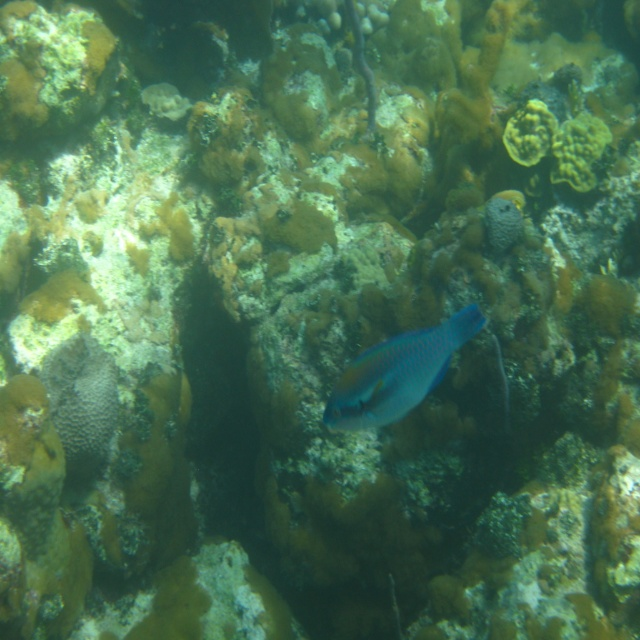Fish: (322, 300, 488, 439)
